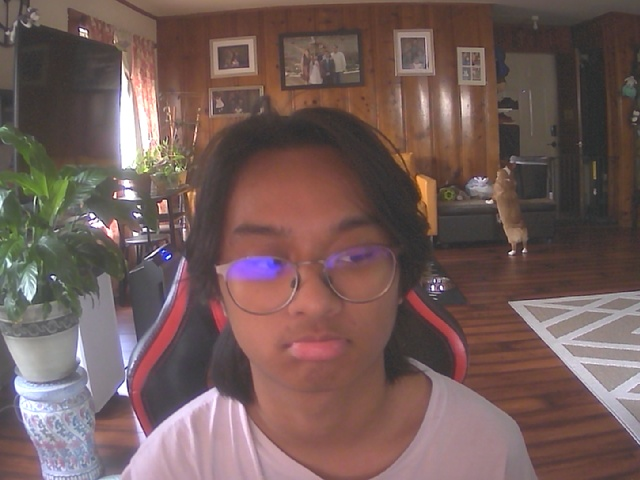sad: (220, 123, 409, 396)
